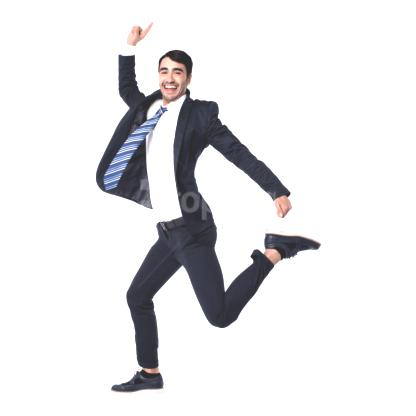Up: (118, 11, 161, 47)
